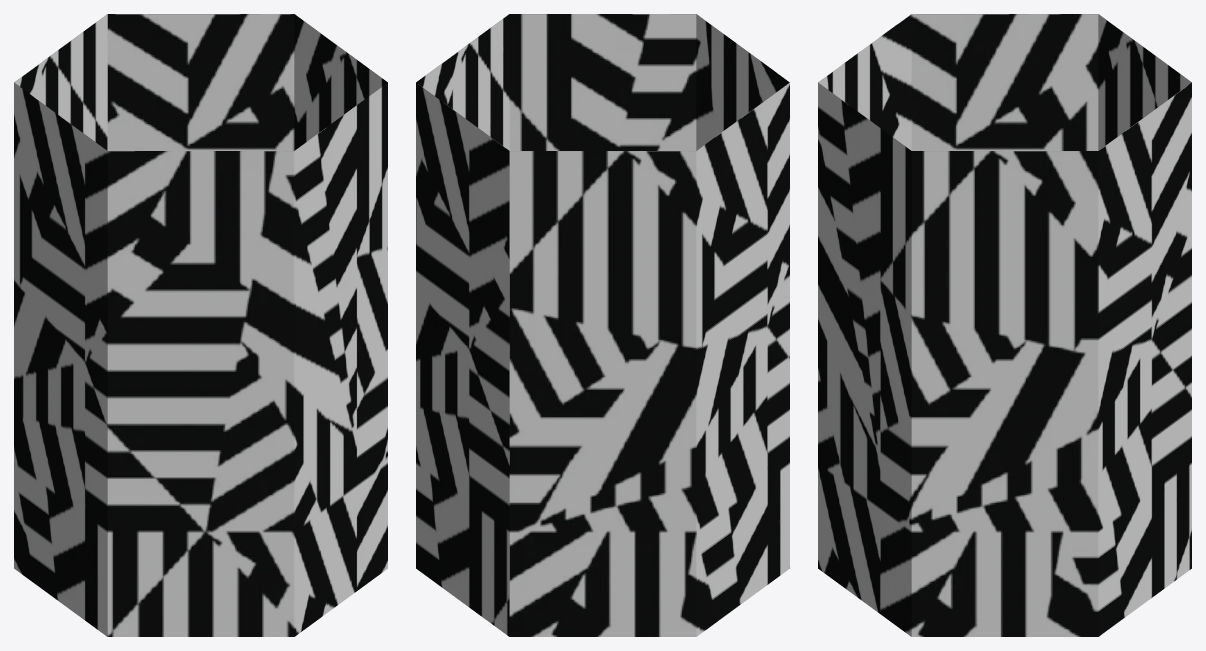
3 views of the same model, side by side, from view 1: azimuth 30°, elevation 25°; view 2: azimuth 150°, elevation 25°; view 3: azimuth 270°, elevation 25° (orthographic).
Visible parts, largest first — view 1: Cylinder.003; view 2: Cylinder.003; view 3: Cylinder.003.
Part boxes in pixels (x1,y1,x2,y2): Cylinder.003: [14, 14, 387, 636]; Cylinder.003: [416, 14, 789, 636]; Cylinder.003: [818, 14, 1191, 636].
Bounding box in the file's own units: 18.18 × 30.11 × 20.99.
Materials: 1 (1 with a texture image).
